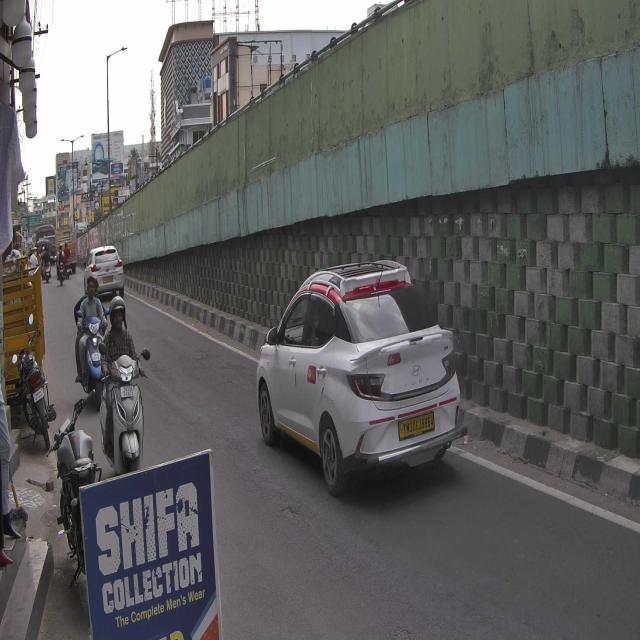single_rider: (96, 294, 150, 481)
